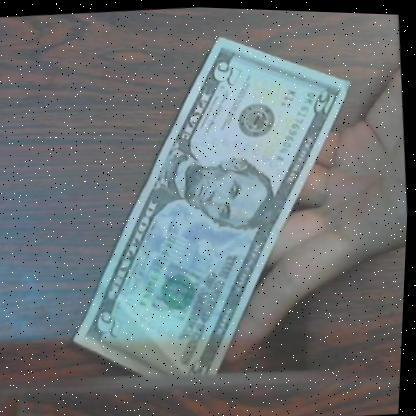five-front: (42, 15, 386, 403)
